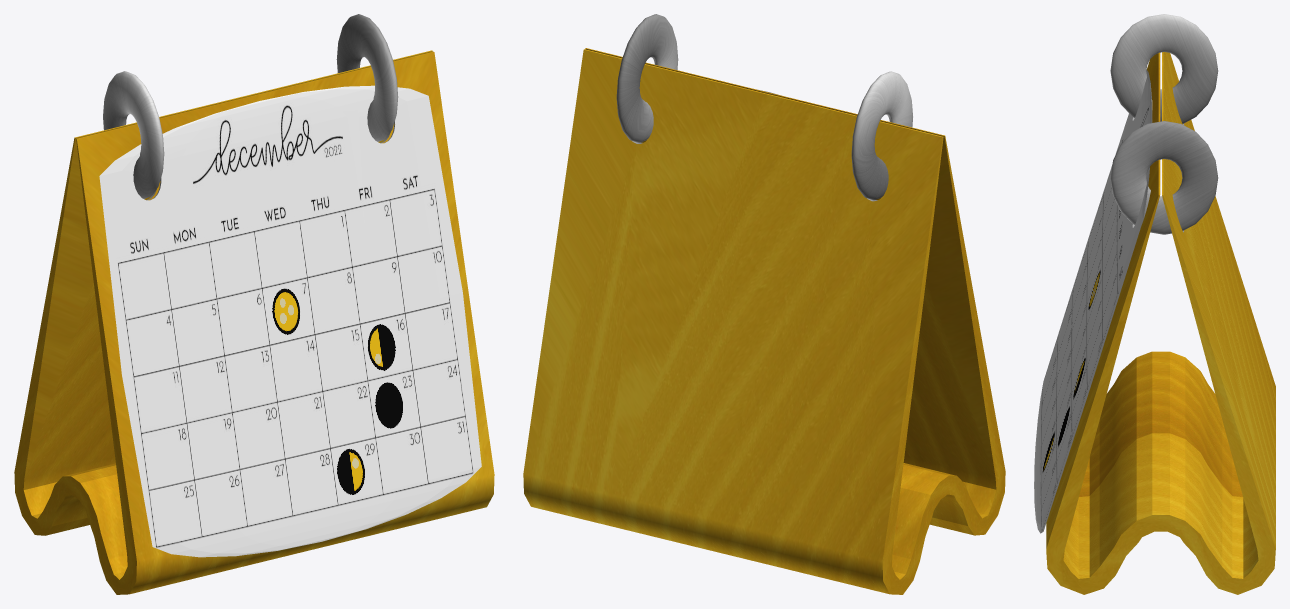
File: calendar.fbx
3 views of the same model, side by side, from view 1: azimuth 30°, elevation 25°; view 2: azimuth 150°, elevation 25°; view 3: azimuth 270°, elevation 25° (orthographic). The views are drawn at different scales.
Parts seen in each view (by area): view 1: calendar1; view 2: calendar1; view 3: calendar1.
Boxes of the visible parts, x1,y1,x2,y2 form: calendar1: (14, 14, 494, 594); calendar1: (523, 14, 1005, 594); calendar1: (1034, 14, 1275, 594).
Size of the model in its own units: 5.43 by 6.89 by 3.39.
Materials: 5 (3 with a texture image).
